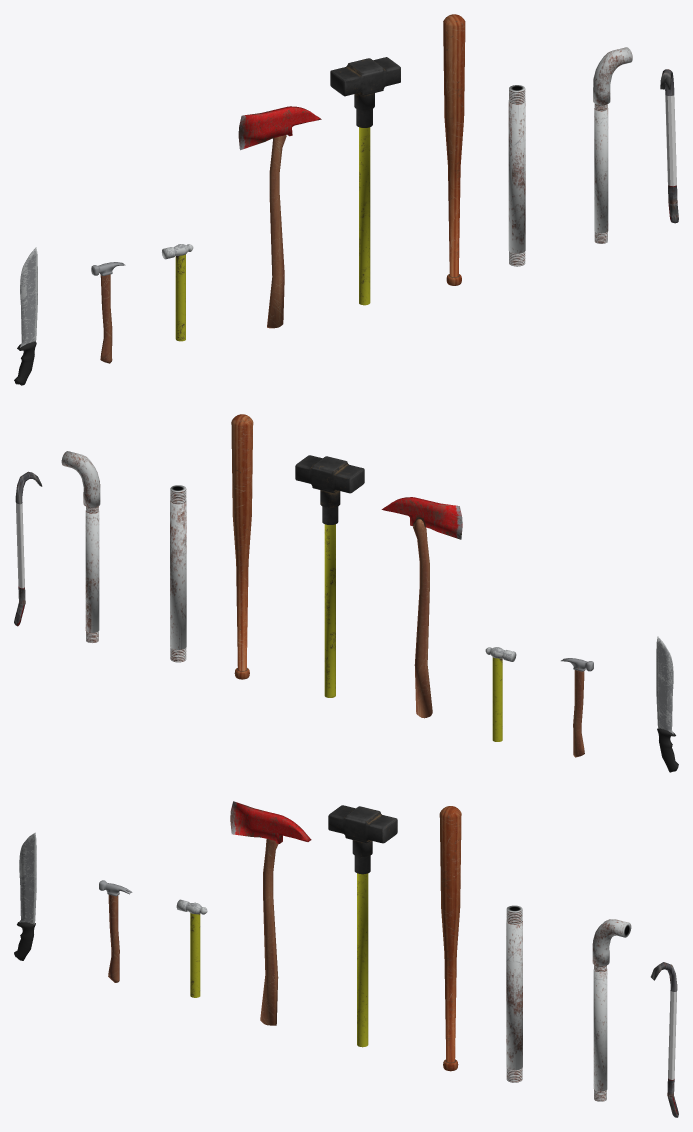
File: melee weapons.fbx
The picture shows the model from 3 angles, top to bottom: view 1: azimuth 30°, elevation 25°; view 2: azimuth 150°, elevation 25°; view 3: azimuth 330°, elevation 25°; orthographic projection. The views are drawn at different scales.
Parts seen in each view (by area): view 1: Plane.001_Plastic_0, Sphere_wood_0, Plane.004_AXE HANDLE_0, Circle.001_pipe_0, Circle.002_pipe_0, Plane_grip_0, Crowbar_08 - Default_0, Circle.003_Plastic_0, Plane.003_wood 2_0; view 2: Plane.001_Plastic_0, Plane.004_AXE HANDLE_0, Sphere_wood_0, Circle.001_pipe_0, Circle.002_pipe_0, Plane_grip_0, Circle.003_Plastic_0, Crowbar_08 - Default_0, Plane.003_wood 2_0; view 3: Plane.001_Plastic_0, Plane.004_AXE HANDLE_0, Sphere_wood_0, Circle.001_pipe_0, Circle.002_pipe_0, Plane_grip_0, Crowbar_08 - Default_0, Circle.003_Plastic_0, Plane.003_wood 2_0.
Boxes of the visible parts, x1,y1,x2,y2 form: Plane.001_Plastic_0: [330, 57, 400, 305]; Sphere_wood_0: [443, 14, 465, 285]; Plane.004_AXE HANDLE_0: [238, 106, 321, 328]; Circle.001_pipe_0: [593, 47, 632, 243]; Circle.002_pipe_0: [508, 85, 525, 266]; Plane_grip_0: [14, 247, 37, 385]; Crowbar_08 - Default_0: [660, 69, 678, 223]; Circle.003_Plastic_0: [162, 244, 193, 341]; Plane.003_wood 2_0: [91, 262, 125, 363]; Plane.001_Plastic_0: [295, 455, 364, 697]; Plane.004_AXE HANDLE_0: [381, 497, 462, 718]; Sphere_wood_0: [231, 414, 253, 679]; Circle.001_pipe_0: [61, 451, 100, 642]; Circle.002_pipe_0: [170, 485, 186, 662]; Plane_grip_0: [656, 636, 678, 772]; Circle.003_Plastic_0: [485, 647, 516, 741]; Crowbar_08 - Default_0: [14, 471, 42, 626]; Plane.003_wood 2_0: [561, 658, 593, 757]; Plane.001_Plastic_0: [328, 805, 397, 1047]; Plane.004_AXE HANDLE_0: [230, 801, 311, 1025]; Sphere_wood_0: [439, 806, 461, 1071]; Circle.001_pipe_0: [592, 919, 631, 1101]; Circle.002_pipe_0: [506, 905, 522, 1082]; Plane_grip_0: [14, 832, 36, 960]; Crowbar_08 - Default_0: [650, 962, 678, 1117]; Circle.003_Plastic_0: [176, 899, 207, 997]; Plane.003_wood 2_0: [99, 880, 132, 982].
Size of the model in its own units: 2275 by 868 by 101.
Materials: 12 (11 with a texture image).
